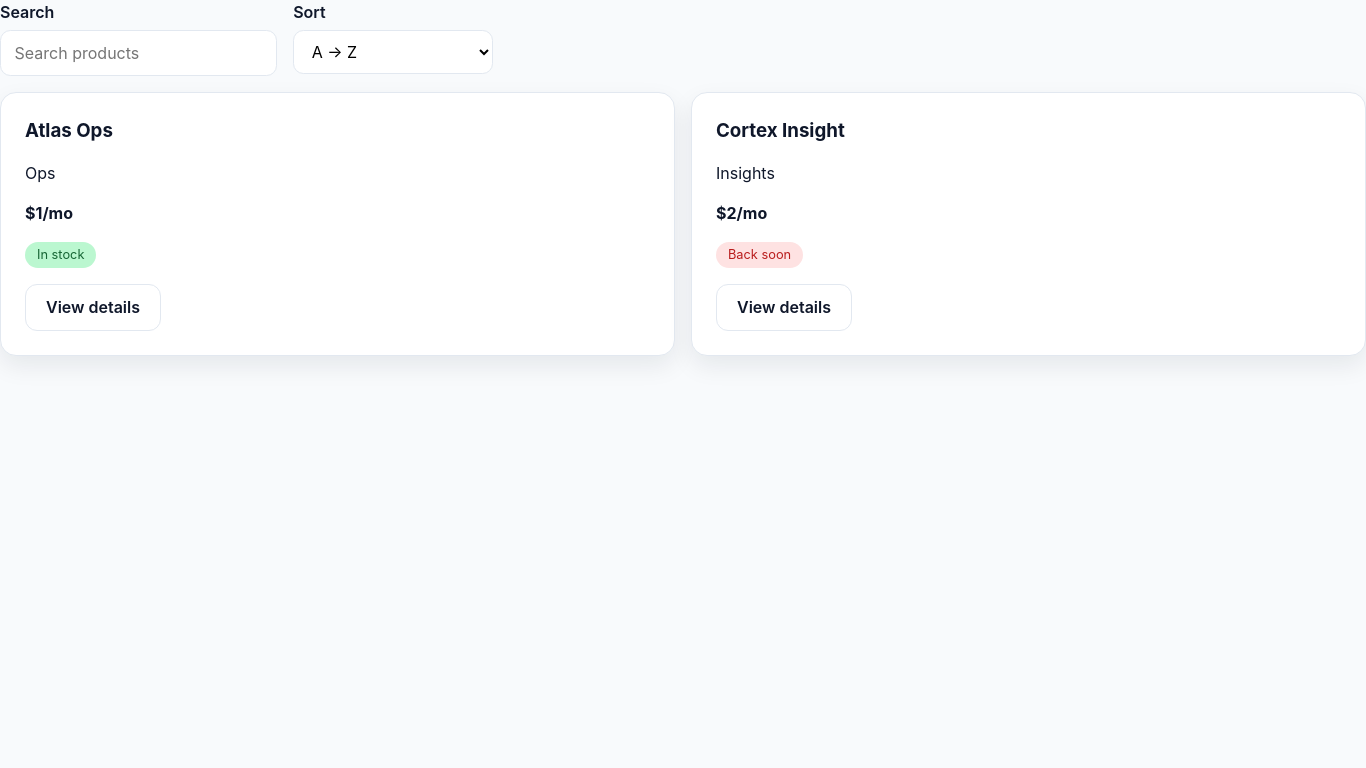
ProductsPage › recovers from details fetch failure
The width and height of the screenshot is (1366, 768).
expect the heading "Atlas Ops" is shown: met, box top-left (25, 119), bottom-right (113, 142)
Step 1. Click the button "View details" below "In stock" → (93,307), box top-left (25, 284), bottom-right (161, 331)
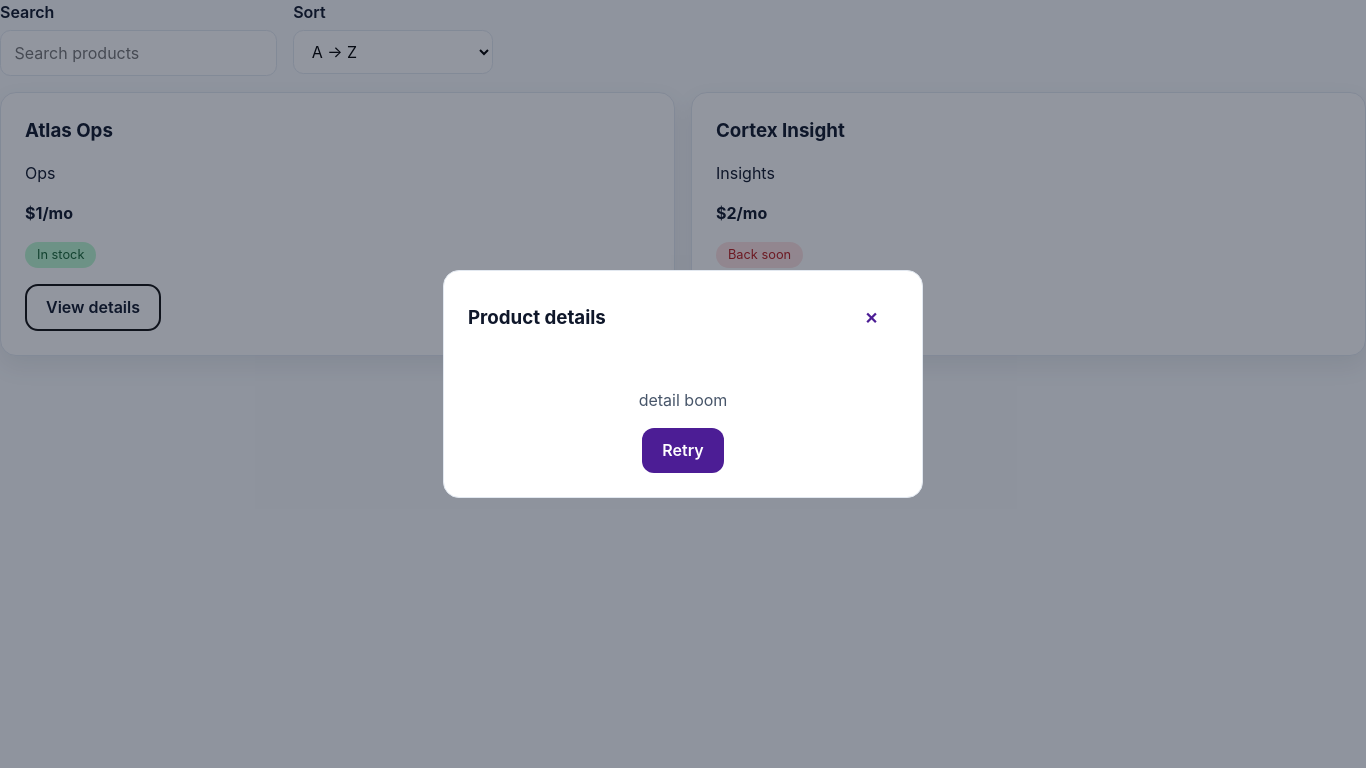
expect the text "detail boom" is shown: met, box top-left (639, 390), bottom-right (727, 410)
Step 2. Click the button "Retry" → (683,450), box top-left (642, 428), bottom-right (724, 473)
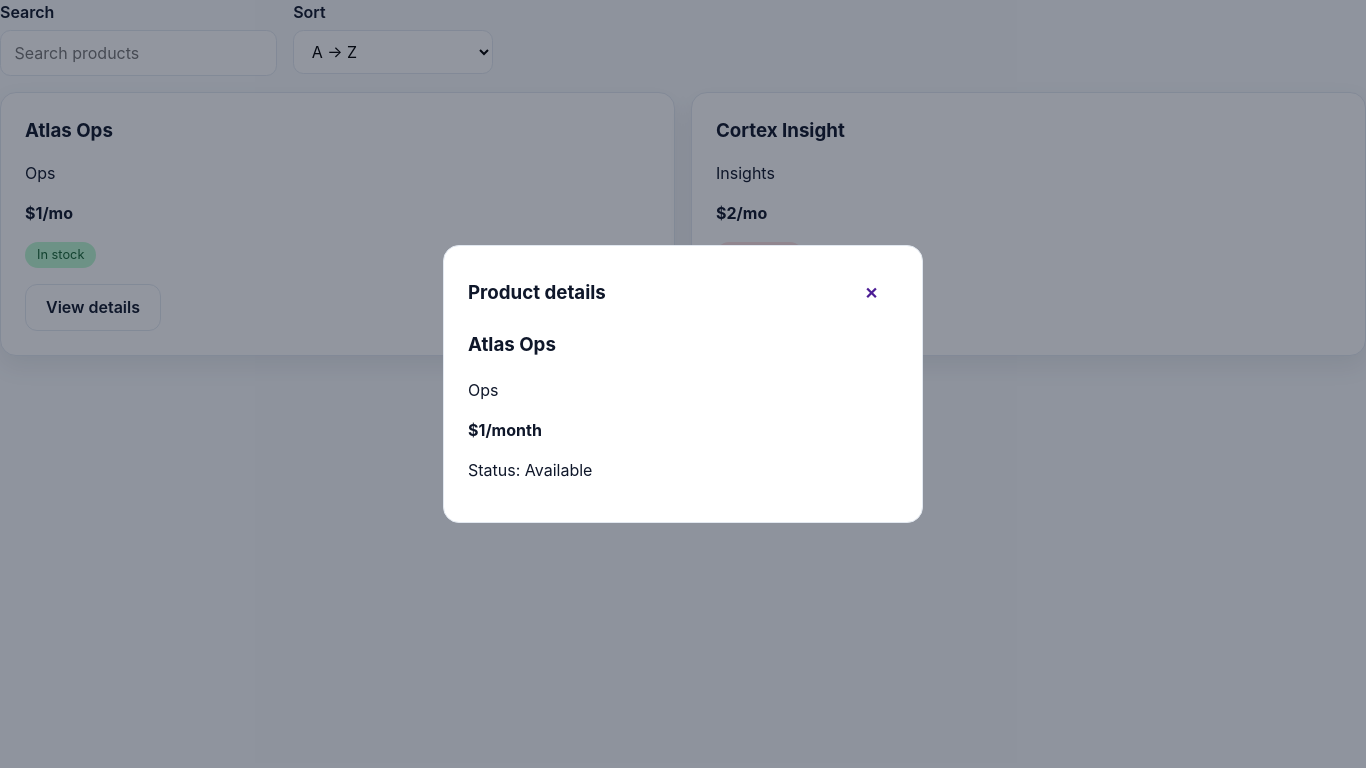
expect the text "$1/month" is shown: met, box top-left (468, 420), bottom-right (542, 440)
